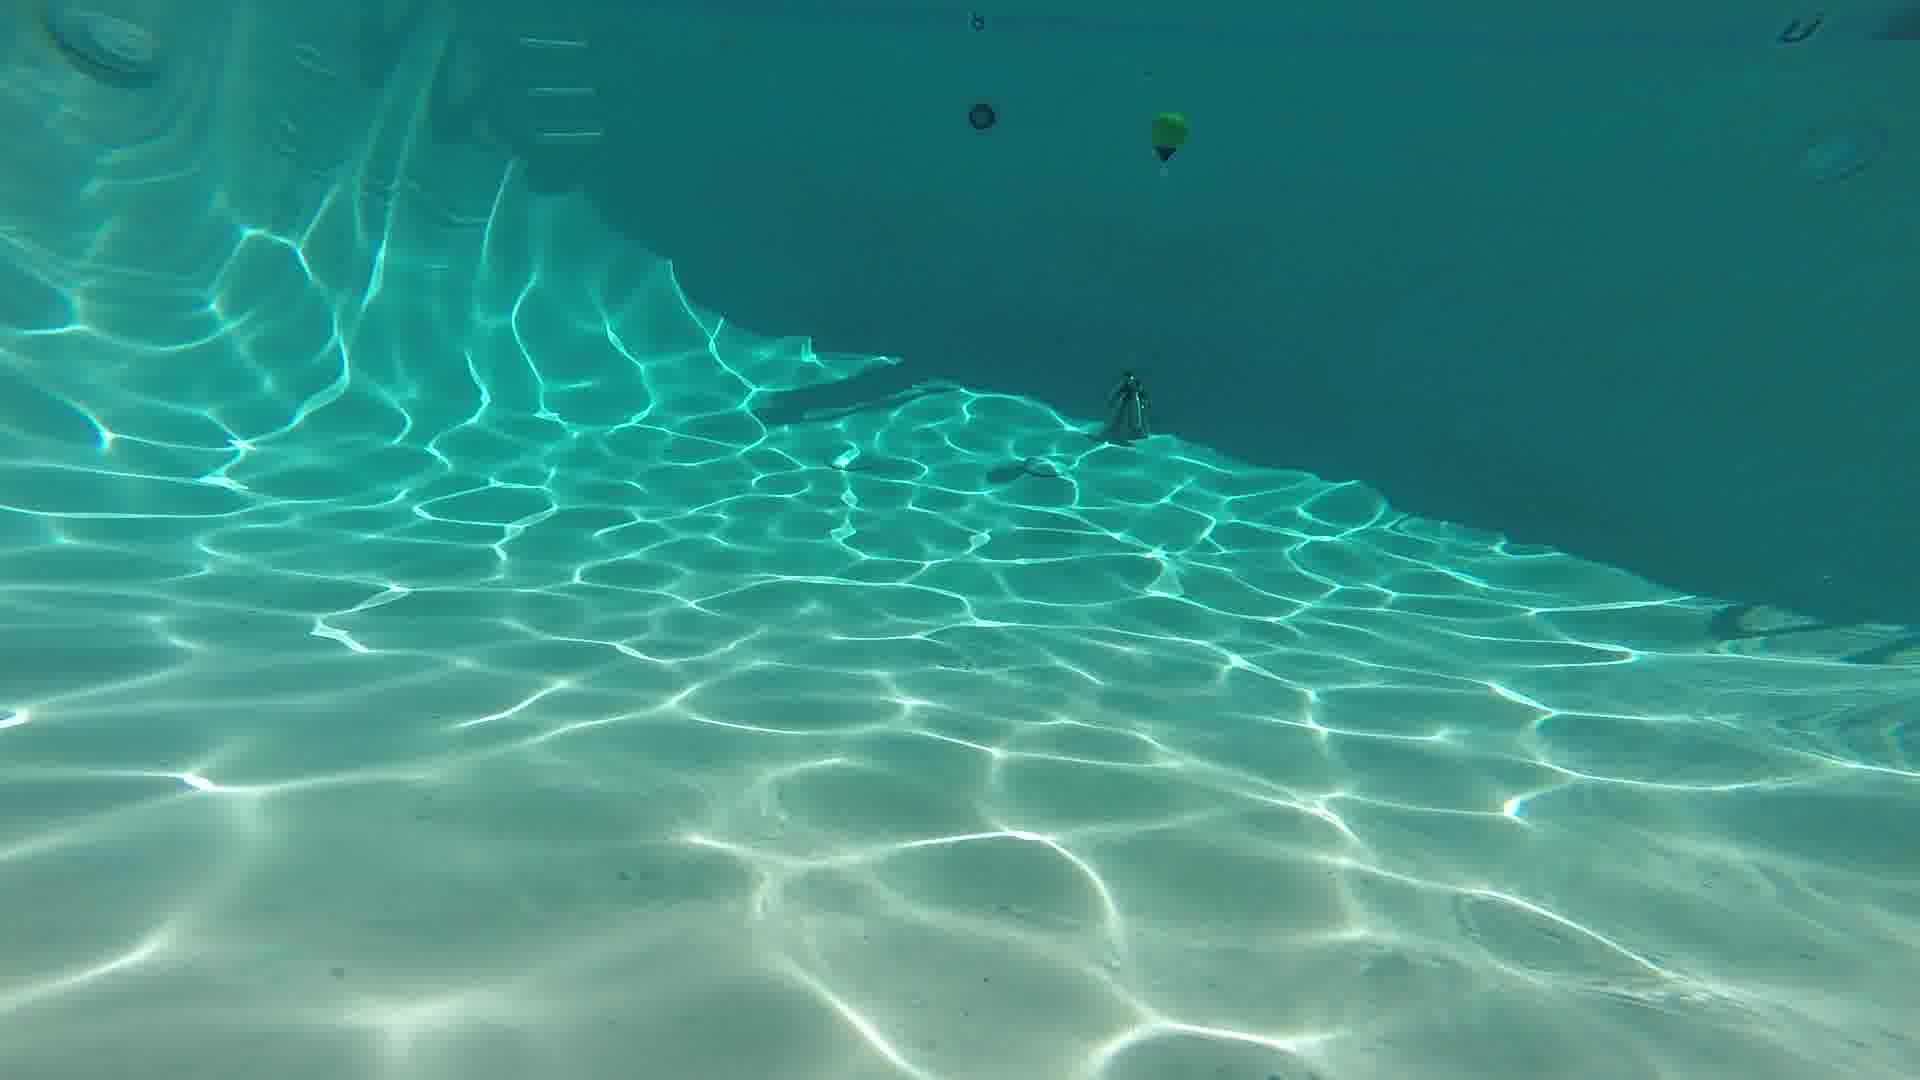yellow buoy: (1141, 102, 1196, 171)
